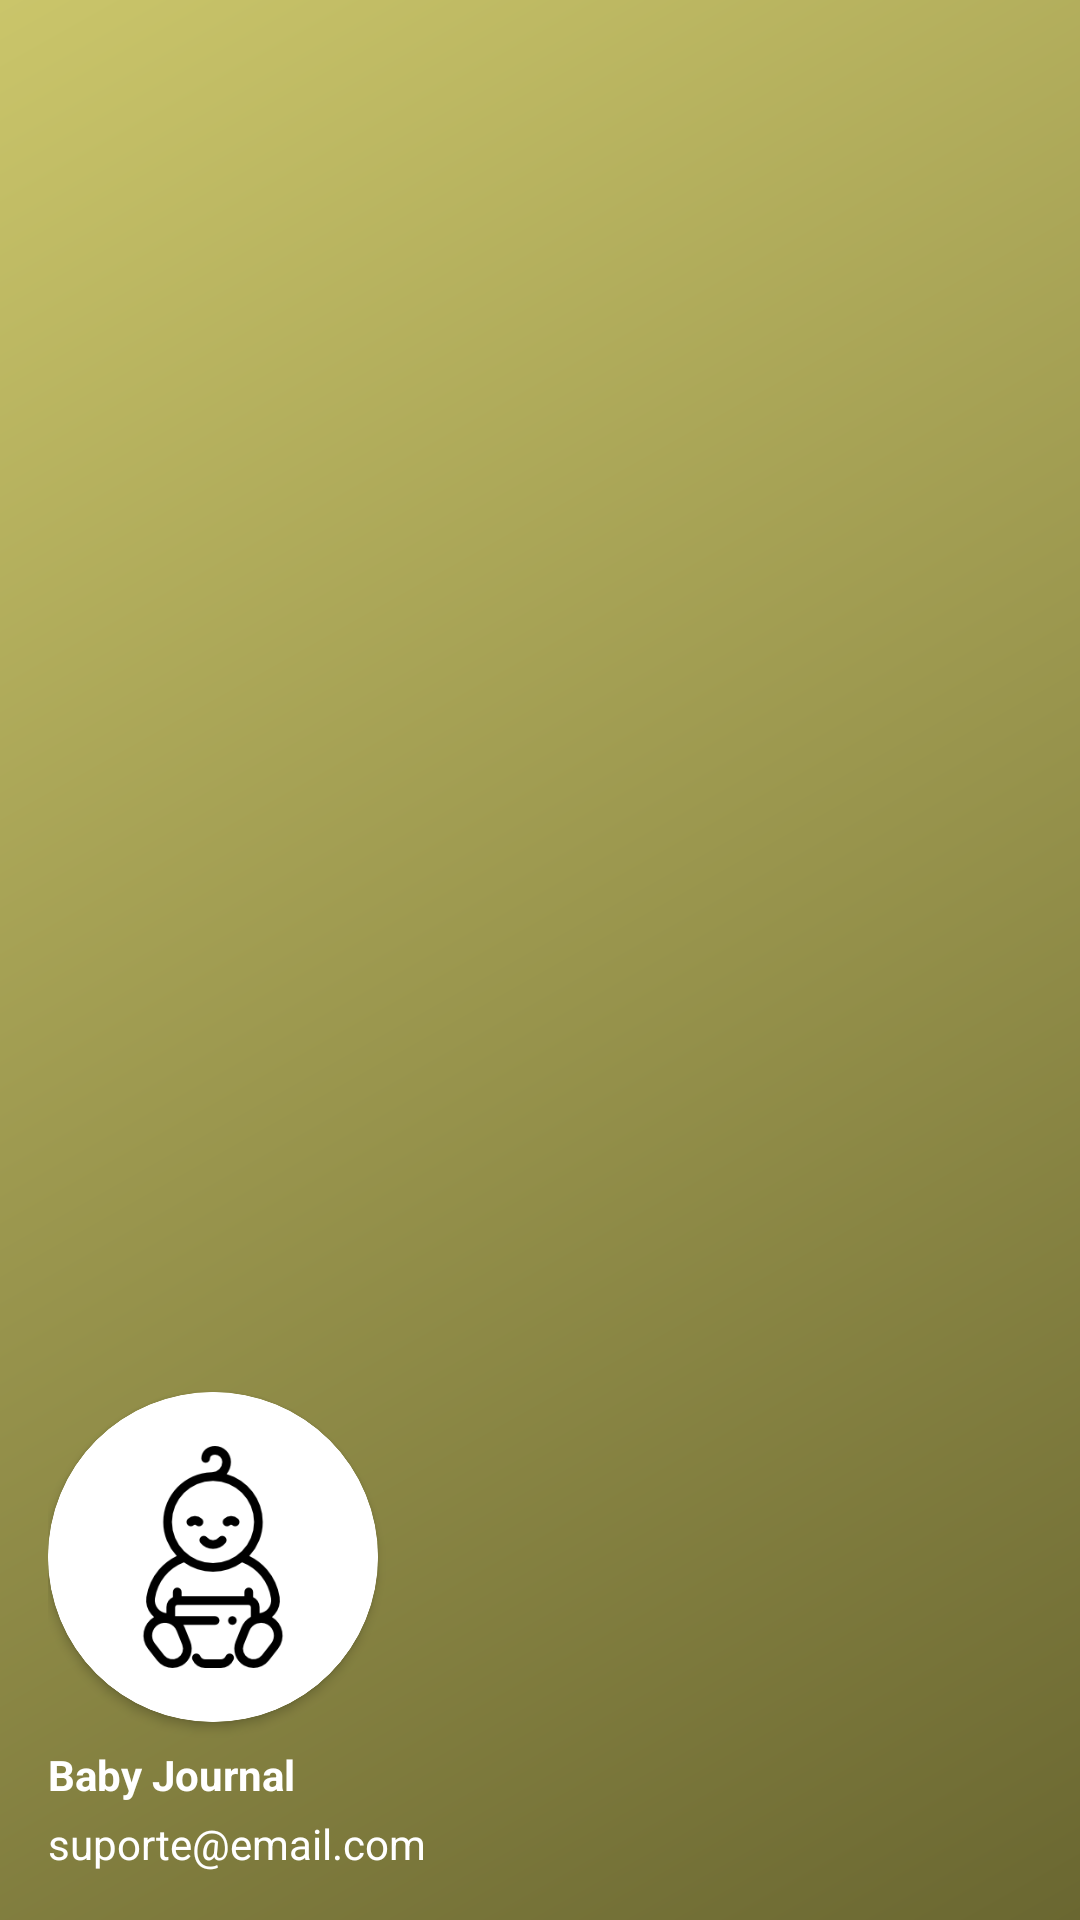

Locate icon controls on the screen. Image size 1080 × 1920, boxes as (x1, y1, x2, y2).
baby main: (48, 1392, 378, 1722)
